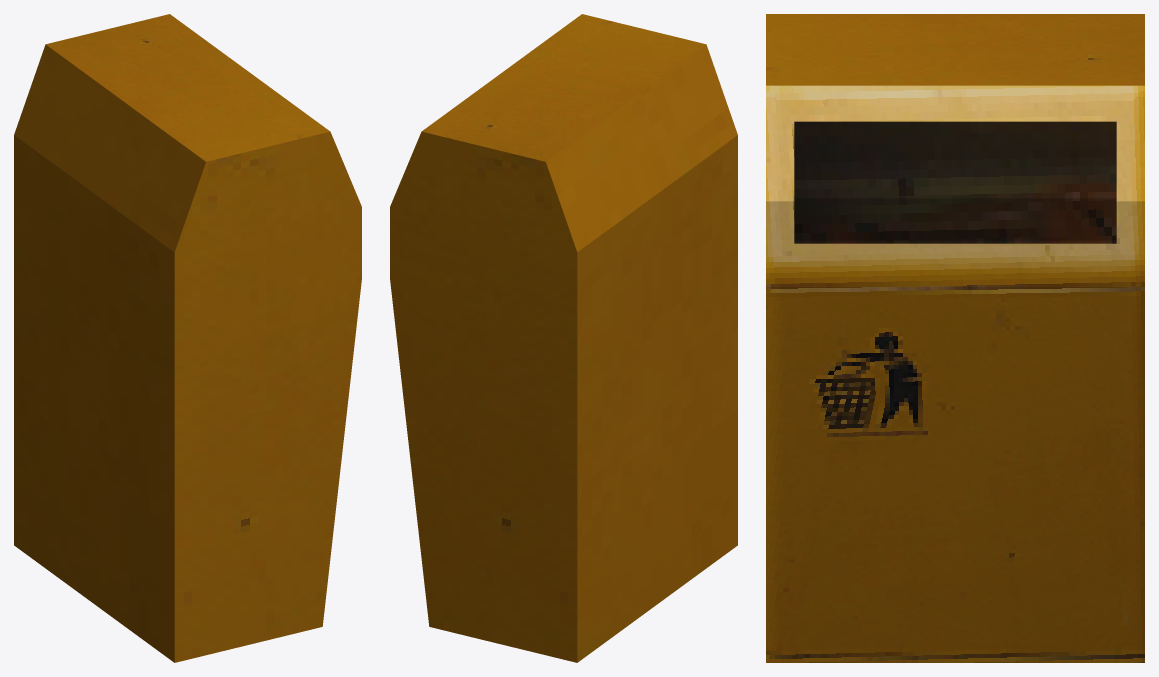
The model's file is bin1.glb.
3 views of the same model, side by side, from view 1: azimuth 30°, elevation 25°; view 2: azimuth 150°, elevation 25°; view 3: azimuth 270°, elevation 25° (orthographic). The views are drawn at different scales.
Visible parts, largest first — view 1: Cube; view 2: Cube; view 3: Cube.
Boxes of the visible parts, x1=… form: Cube: x1=14, y1=14, x2=361, y2=662; Cube: x1=390, y1=14, x2=737, y2=662; Cube: x1=766, y1=14, x2=1144, y2=662.
Bounding box in the file's own units: 0.8575 × 2.16 × 1.27.
1 material, 1 textured.
